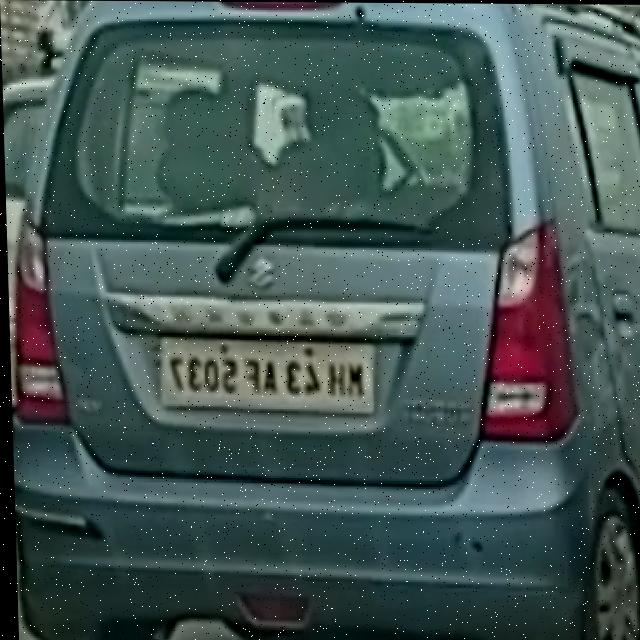plate: (152, 338, 378, 412)
